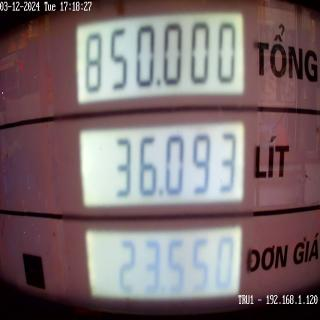screen: (74, 5, 250, 315)
